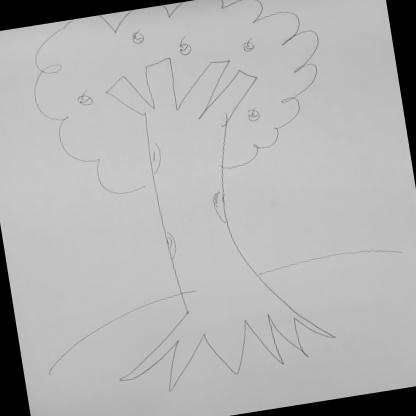apple: (174, 35, 194, 56), (74, 88, 95, 106), (129, 28, 146, 44), (240, 36, 256, 52), (247, 106, 261, 121)
branch_cut: (104, 45, 263, 146)
crown_cloud: (25, 0, 337, 205)
knot: (210, 190, 230, 223), (146, 140, 164, 172), (163, 231, 179, 259)
root_upside: (106, 253, 338, 399)
trunk_reflex: (146, 139, 246, 274)
